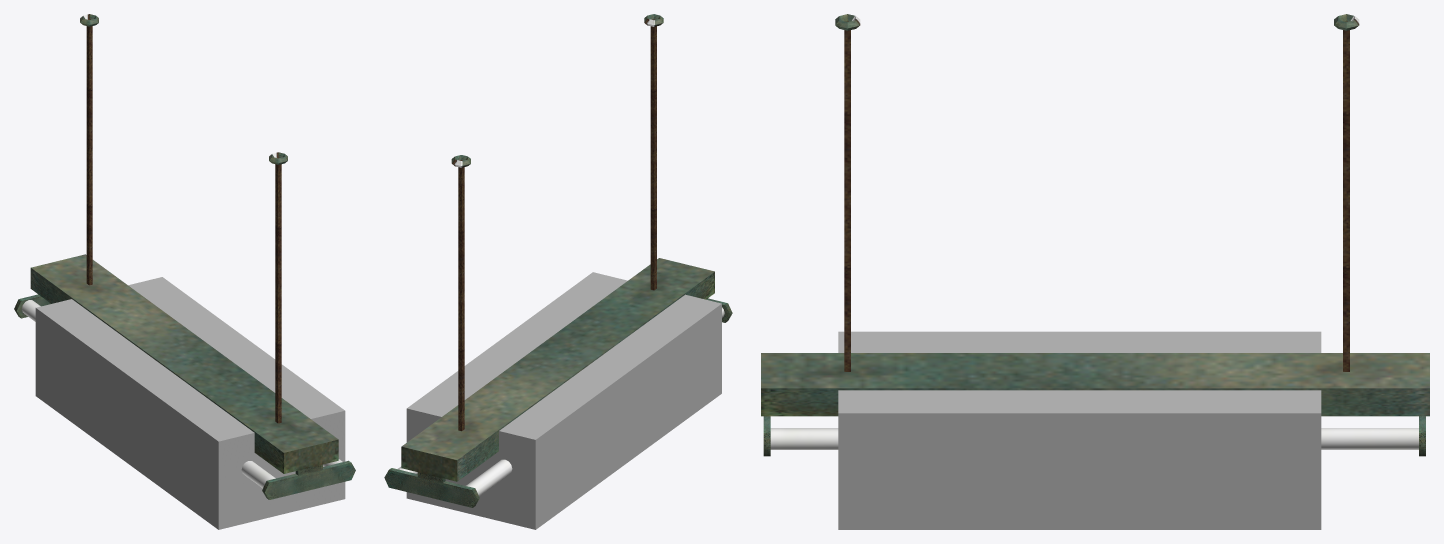
File: light_flourlight02.dae
The picture shows the model from 3 angles, left to right: view 1: azimuth 30°, elevation 25°; view 2: azimuth 150°, elevation 25°; view 3: azimuth 270°, elevation 25°; orthographic projection. The views are drawn at different scales.
Parts seen in each view (by area): view 1: _bb_bb1_flourlight_halo01, light1, light2; view 2: _bb_bb1_flourlight_halo01, light1, light2, mounts; view 3: _bb_bb1_flourlight_halo01, light1, light2.
Part boxes in pixels (<box>): _bb_bb1_flourlight_halo01: <box>35,277,345,529</box>; light1: <box>14,19,355,499</box>; light2: <box>22,300,342,488</box>; _bb_bb1_flourlight_halo01: <box>406,272,721,529</box>; light1: <box>384,19,732,507</box>; light2: <box>397,307,724,495</box>; mounts: <box>451,14,663,167</box>; _bb_bb1_flourlight_halo01: <box>838,331,1321,529</box>; light1: <box>761,21,1429,456</box>; light2: <box>770,428,1418,449</box>.
Size of what is drawn, in the model's own units: 0.2512 by 0.6972 by 0.8695.
